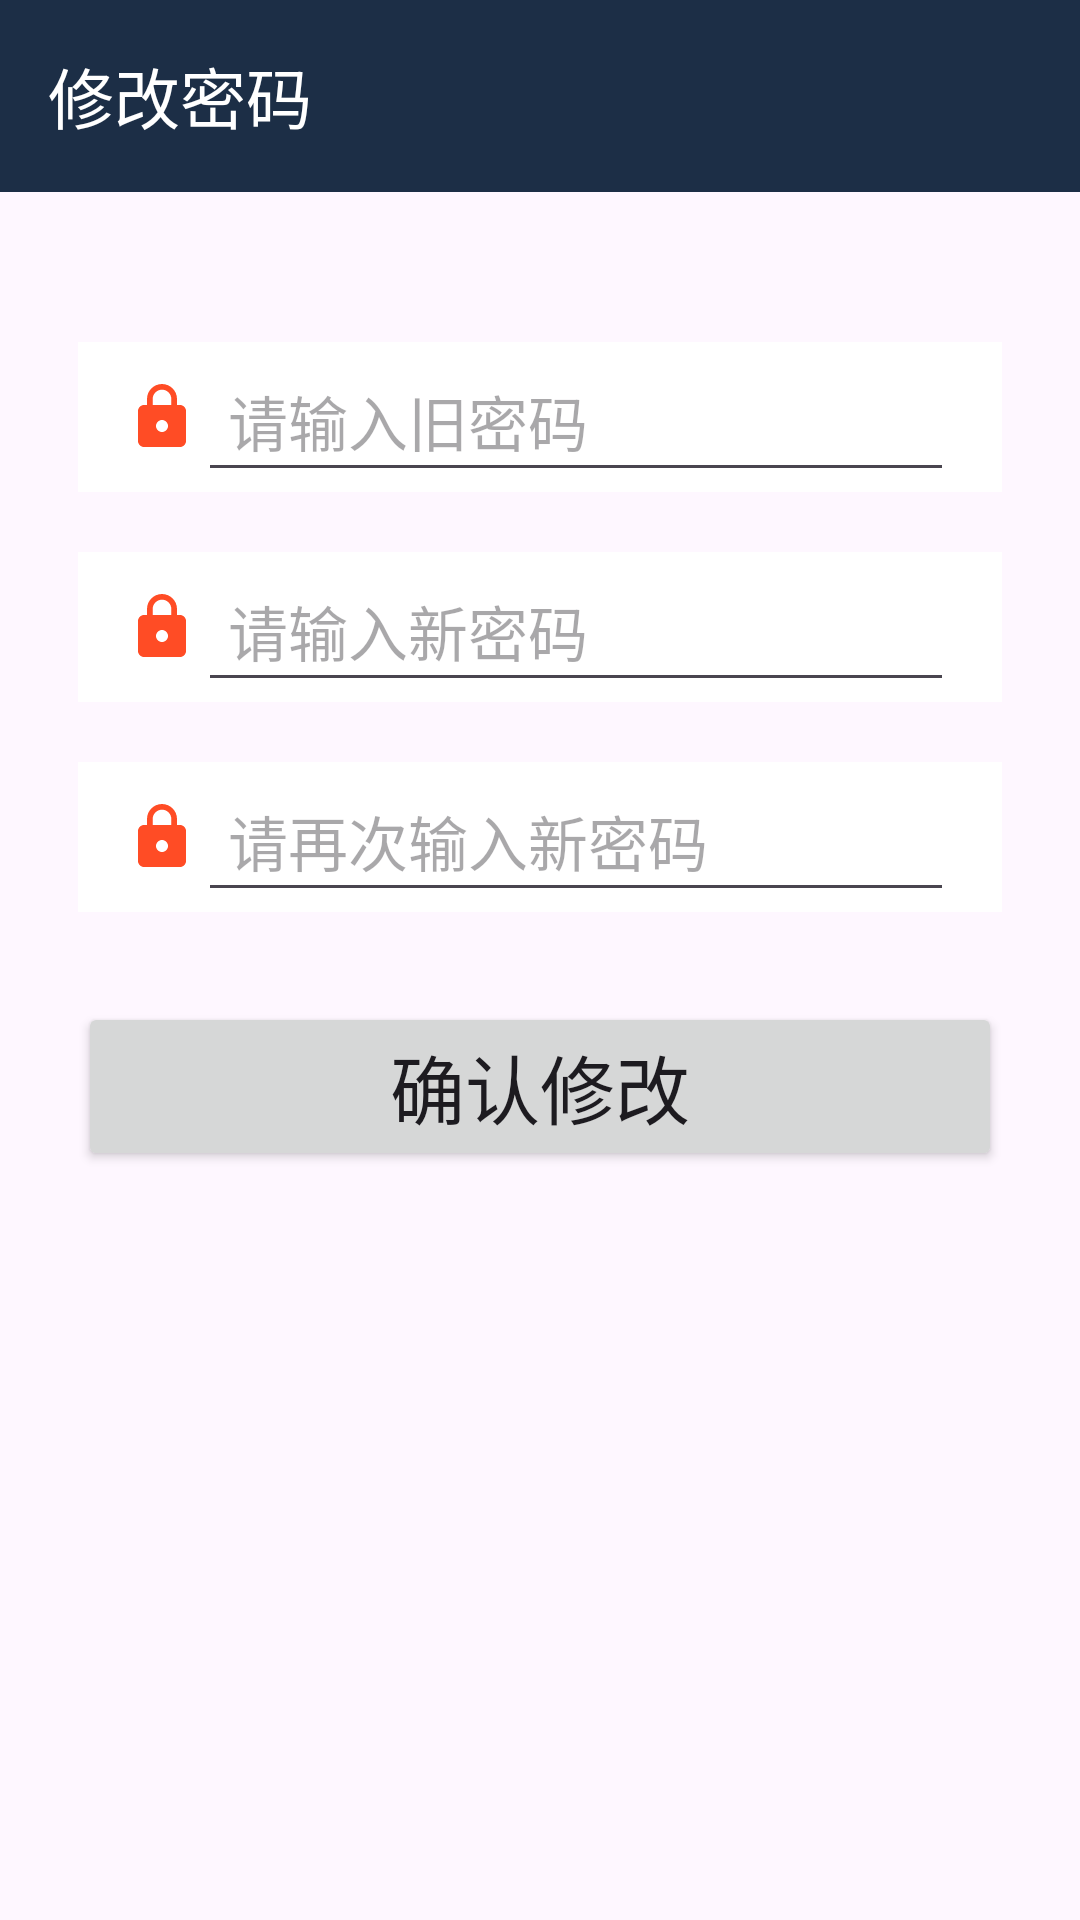

Named icons in this screenshot (1080x1920) and their centers, (x,y):
lock: (162,415), (162,625), (162,835)
